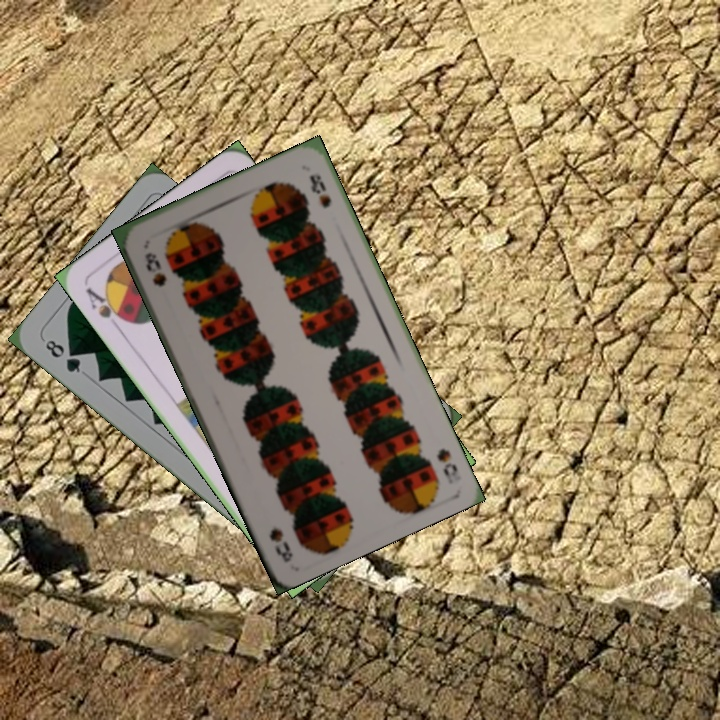G8: (41, 335, 83, 376)
S8: (432, 444, 464, 487), (140, 248, 169, 290)
SA: (82, 283, 131, 333)
